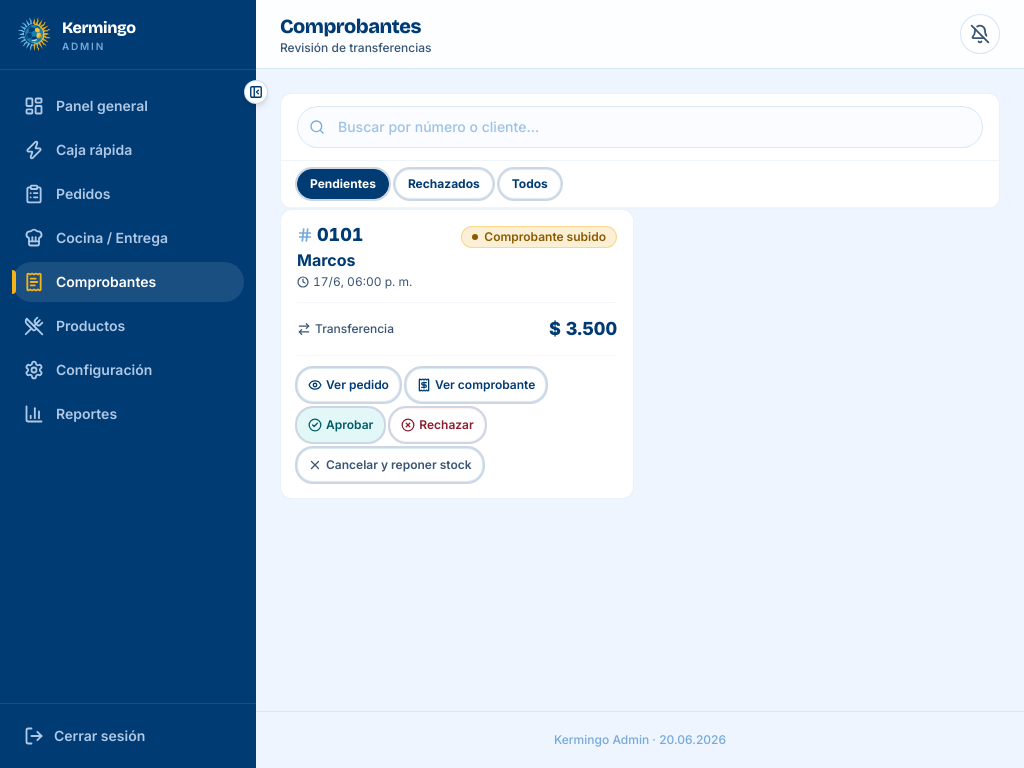
Test case: ComprobantesScreen › Approve (markPaid) action › calls PATCH /comprobante/aprobar and removes the order from the list
Check: the text "Marcos" is shown, box [297,250,356,270]
Click the button "Aprobar" at {"x": 341, "y": 425}, box [297,408,384,442]
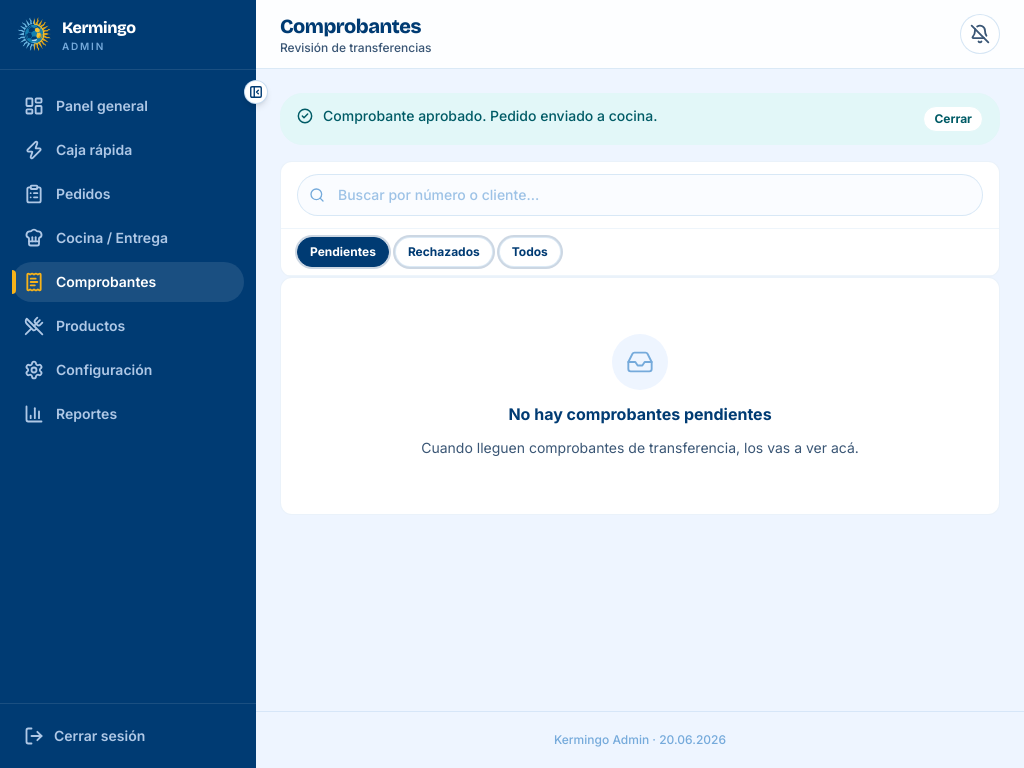
Check: the text "Marcos" is gone
